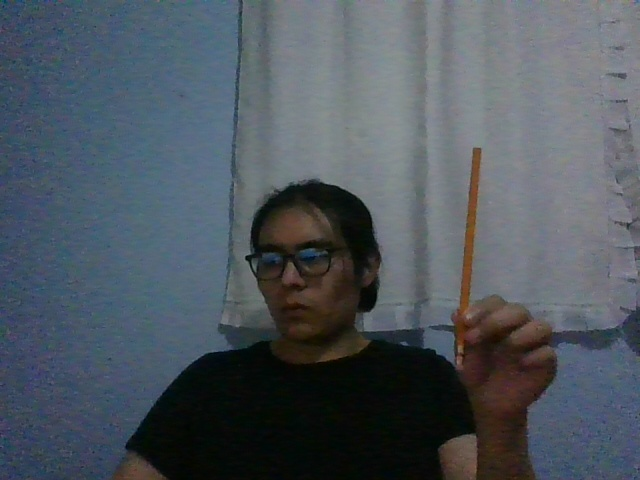lapiz: (453, 147, 483, 371)
